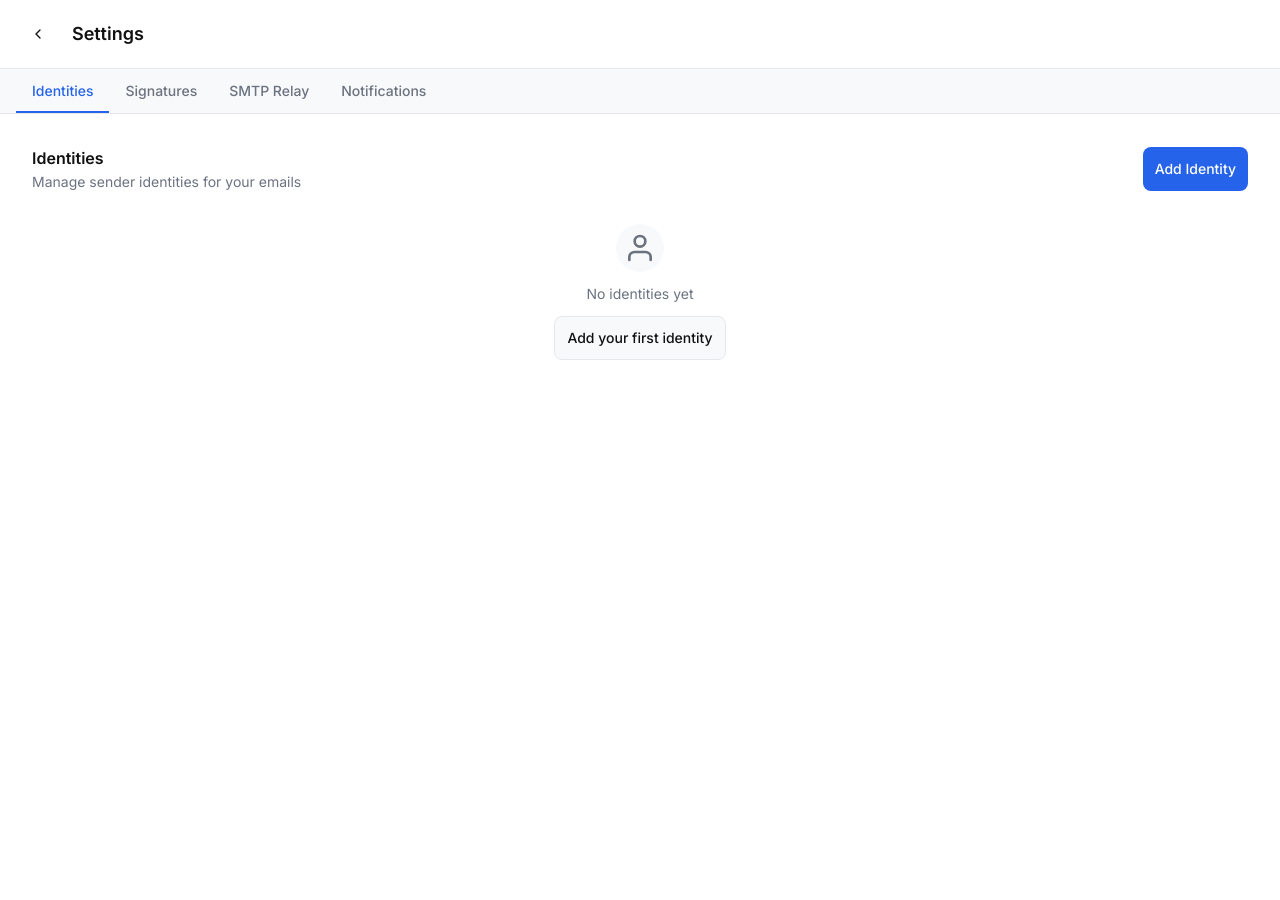
Test: Settings › identities tab › Add Identity button opens create dialog
Expected: the text "No identities yet" is shown, x1=586 y1=284 x2=694 y2=304
Click the button "Add your first identity": (640, 338) x1=554 y1=316 x2=726 y2=360
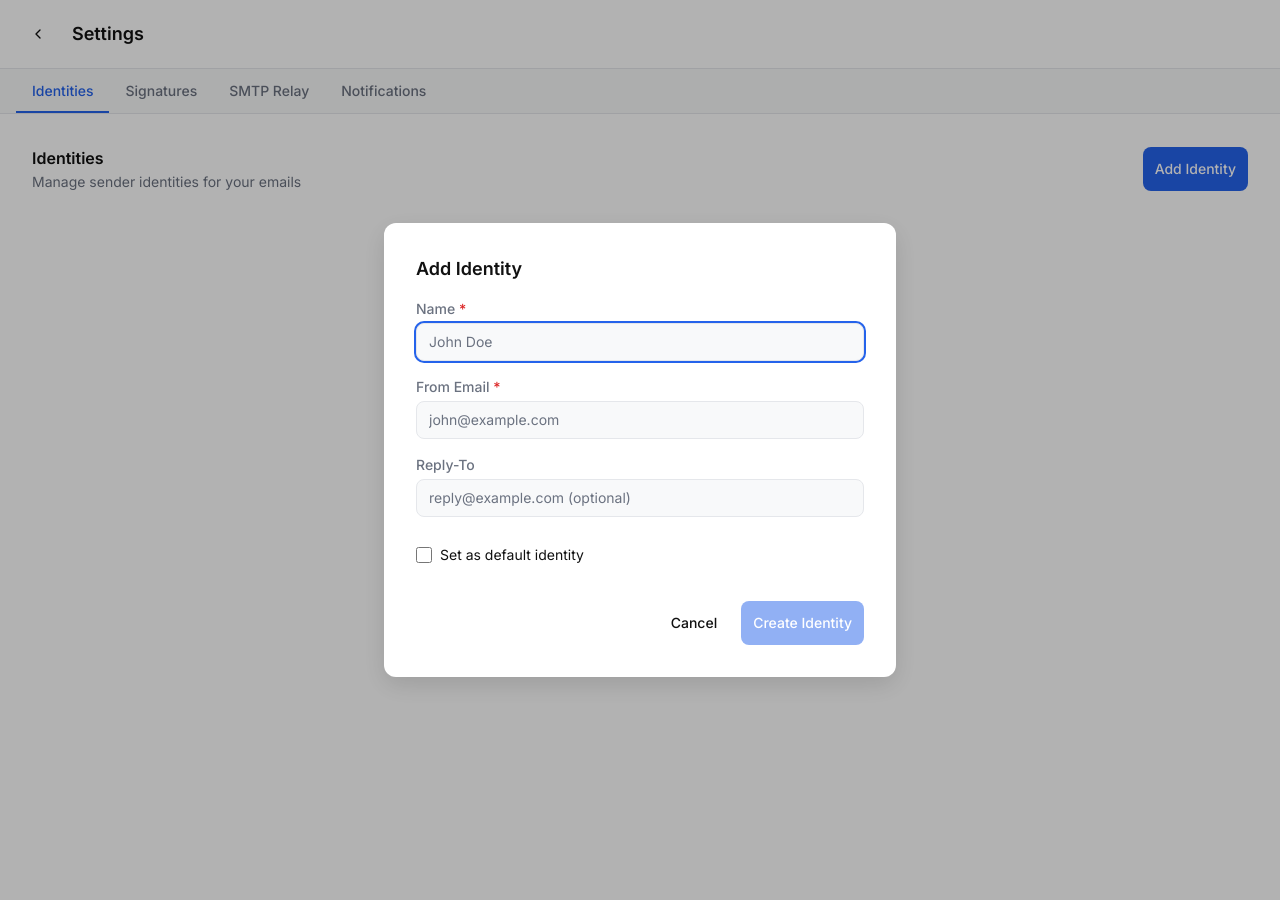
Now the heading "Add Identity" is shown, box x1=416 y1=258 x2=522 y2=279
